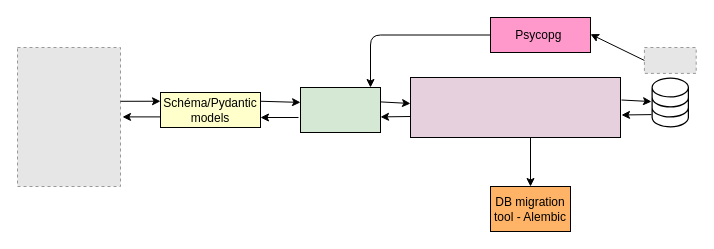
This 714x249 diagram has some shape labels left out. Grey dashed boxes stand in for pictures. The centre of each missing label's shape, as x and y in pixels:
API Framework - FASTAPI: pixel 340 109
Object Relational Mapper (ORM) - SQL Alchemy: pixel 515 107
